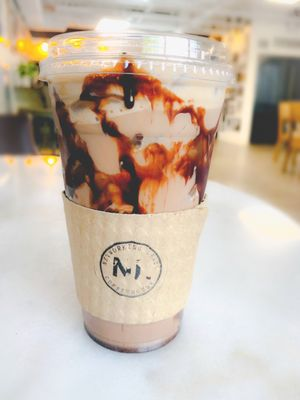pizza: (61, 188, 208, 353)
